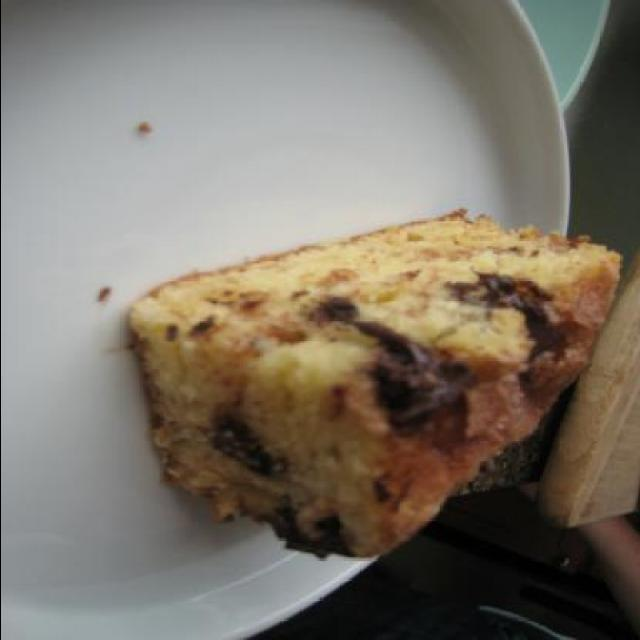Bread: (129, 210, 625, 558)
